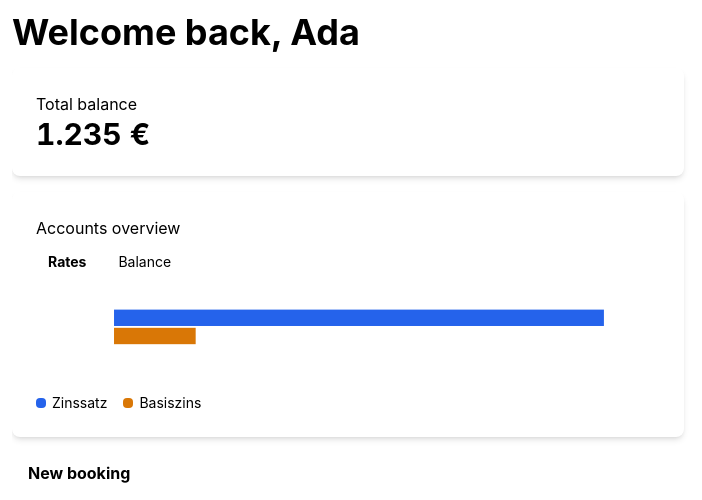
Test: Home › user settings › show_decimals: false changes only the Total balance figure -- the chart legend/axis formatting is unaffected
Click the tab "Balance" at (145, 262), box [106, 248, 183, 276]
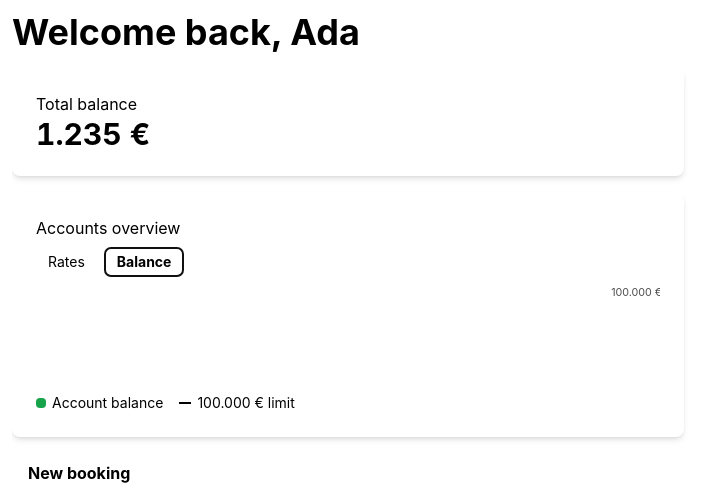
Result: the text "100.000 € limit" is shown at [179, 393, 295, 413]
